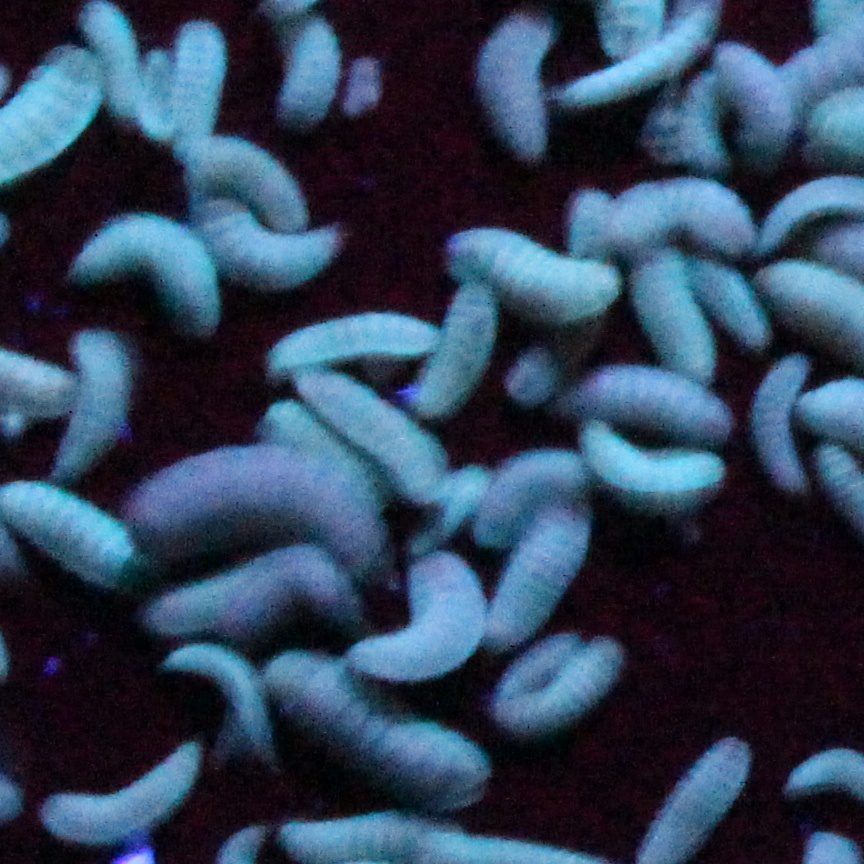larve: (260, 645, 490, 807), (121, 452, 381, 562), (55, 203, 230, 349), (34, 716, 206, 852), (436, 212, 621, 332), (537, 351, 746, 456), (284, 360, 444, 490), (483, 495, 609, 654), (338, 560, 493, 686), (146, 558, 370, 640), (610, 154, 768, 269), (573, 420, 730, 520), (486, 628, 626, 739), (741, 349, 827, 494), (250, 312, 447, 374), (627, 248, 718, 378), (206, 198, 339, 286), (189, 133, 310, 228), (66, 328, 143, 474), (166, 8, 238, 161), (702, 45, 800, 157), (696, 250, 766, 351)
